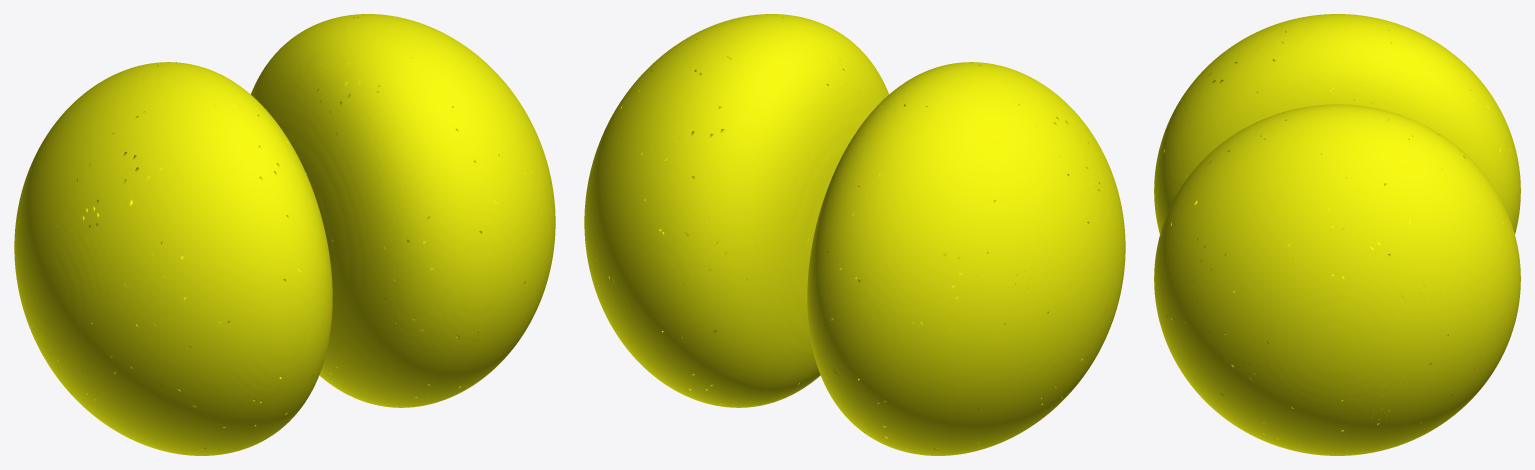
Rendered from orb_n=2_ l=1 _m=1.fbx.
3 views of the same model, side by side, from view 1: azimuth 30°, elevation 25°; view 2: azimuth 150°, elevation 25°; view 3: azimuth 270°, elevation 25° (orthographic). The views are drawn at different scales.
Visible parts, largest first — view 1: orb_n=2_ l=1 _m=1; view 2: orb_n=2_ l=1 _m=1; view 3: orb_n=2_ l=1 _m=1.
Boxes of the visible parts, x1,y1,x2,y2 form: orb_n=2_ l=1 _m=1: (14, 14, 555, 455); orb_n=2_ l=1 _m=1: (584, 14, 1125, 455); orb_n=2_ l=1 _m=1: (1154, 14, 1520, 455).
Bounding box in the file's own units: 2471 × 1767 × 1767.
